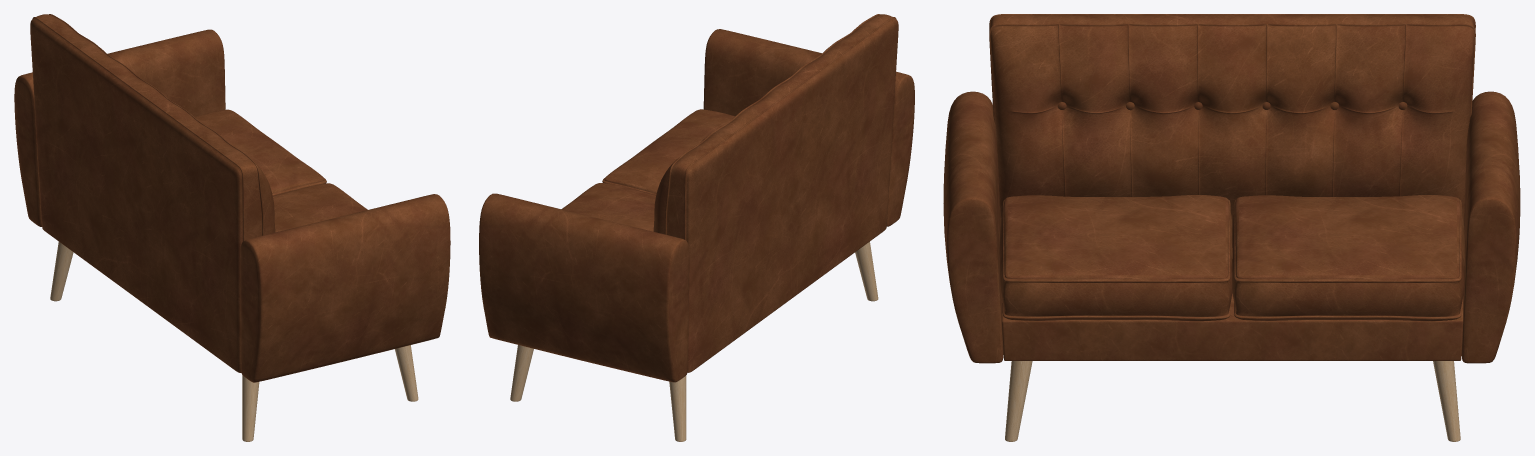
3 renders of one model, left to right at view 1: azimuth 30°, elevation 25°; view 2: azimuth 150°, elevation 25°; view 3: azimuth 270°, elevation 25°, orthographic. The views are drawn at different scales.
Parts seen in each view (by area): view 1: Back.010, Left_Arm.003, Left_Arm.004, Left_Seat.008, Left_Seat.007, Leg01.003, Leg03.003, Leg02.003; view 2: Back.010, Left_Arm.004, Left_Arm.003, Left_Seat.007, Left_Seat.008, Leg03.003, Leg01.003, Leg04.003; view 3: Back.010, Left_Seat.007, Left_Seat.008, Bottom.003, Left_Arm.003, Left_Arm.004, Leg04.003, Leg02.003.
Part boxes in pixels (bbox=[...]): Back.010: bbox=[30, 14, 275, 372]; Left_Arm.003: bbox=[240, 194, 450, 382]; Left_Arm.004: bbox=[14, 29, 225, 226]; Left_Seat.008: bbox=[194, 109, 326, 195]; Left_Seat.007: bbox=[273, 183, 367, 232]; Leg01.003: bbox=[242, 375, 259, 441]; Leg03.003: bbox=[50, 241, 73, 301]; Leg02.003: bbox=[395, 345, 418, 401]; Back.010: bbox=[653, 14, 898, 372]; Left_Arm.004: bbox=[479, 193, 689, 382]; Left_Arm.003: bbox=[703, 29, 914, 226]; Left_Seat.007: bbox=[602, 109, 734, 195]; Left_Seat.008: bbox=[561, 183, 655, 231]; Leg03.003: bbox=[669, 375, 686, 441]; Leg01.003: bbox=[855, 241, 878, 301]; Leg04.003: bbox=[510, 345, 533, 401]; Back.010: bbox=[989, 14, 1475, 222]; Left_Seat.007: bbox=[999, 195, 1232, 321]; Left_Seat.008: bbox=[1232, 195, 1464, 321]; Bottom.003: bbox=[1002, 294, 1463, 360]; Left_Arm.003: bbox=[943, 91, 1003, 363]; Left_Arm.004: bbox=[1461, 91, 1520, 363]; Leg04.003: bbox=[1433, 361, 1460, 441]; Leg02.003: bbox=[1005, 361, 1032, 441].
Size of the model in its own units: 0.8267 by 1.12 by 1.8.
6 materials, 6 textured.
